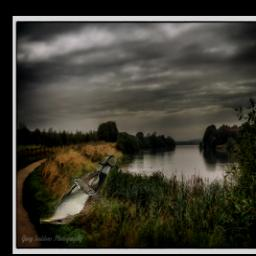Cuckoo: (40, 150, 121, 224)
